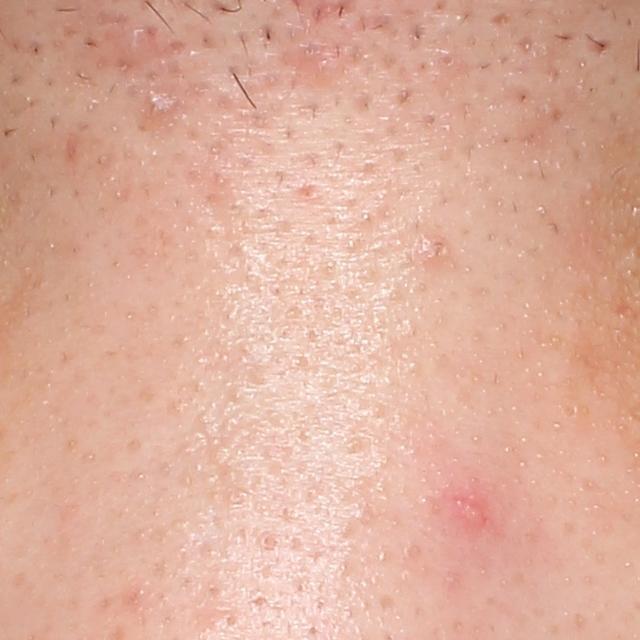papule: (457, 497, 491, 530)
